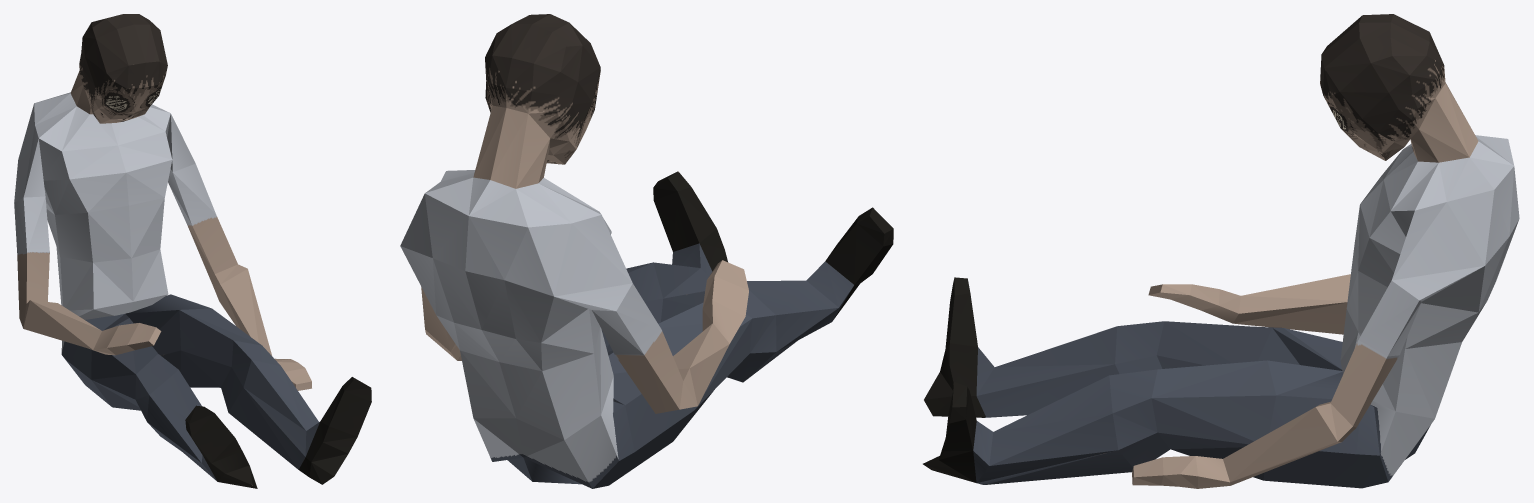
File: NPCPose1.fbx
3 renders of one model, left to right at view 1: azimuth 30°, elevation 25°; view 2: azimuth 150°, elevation 25°; view 3: azimuth 270°, elevation 25°, orthographic. The views are drawn at different scales.
Parts seen in each view (by area): view 1: Characters_01.001; view 2: Characters_01.001; view 3: Characters_01.001.
Boxes of the visible parts, bbox=[...] form: Characters_01.001: bbox=[14, 14, 371, 488]; Characters_01.001: bbox=[400, 14, 893, 488]; Characters_01.001: bbox=[923, 14, 1519, 488].
Bounding box in the file's own units: 84.81 × 132 × 159.
